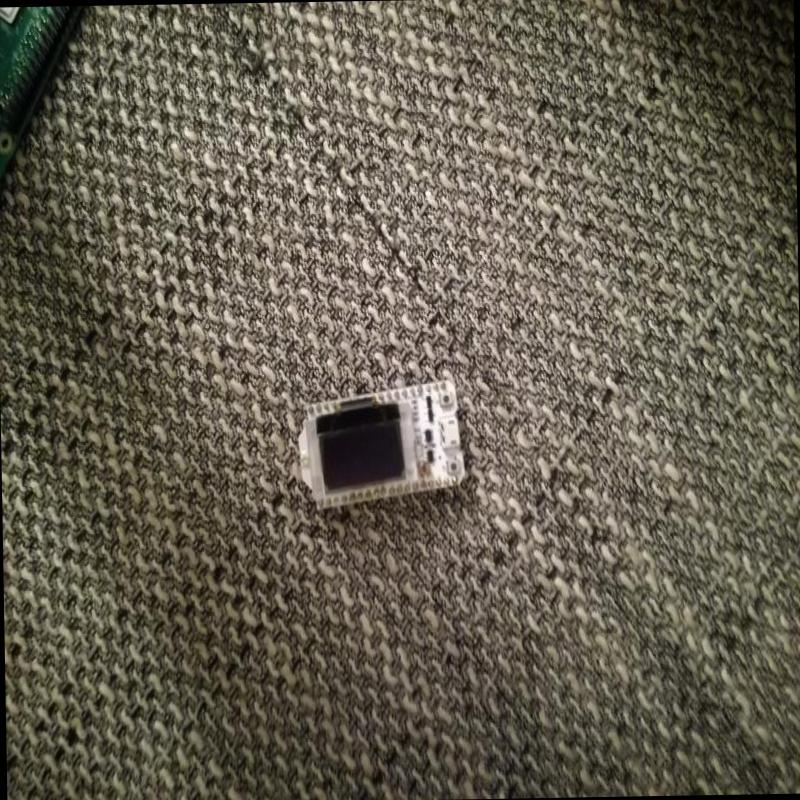Heltec_ESP32_Lora: (289, 378, 470, 517)
